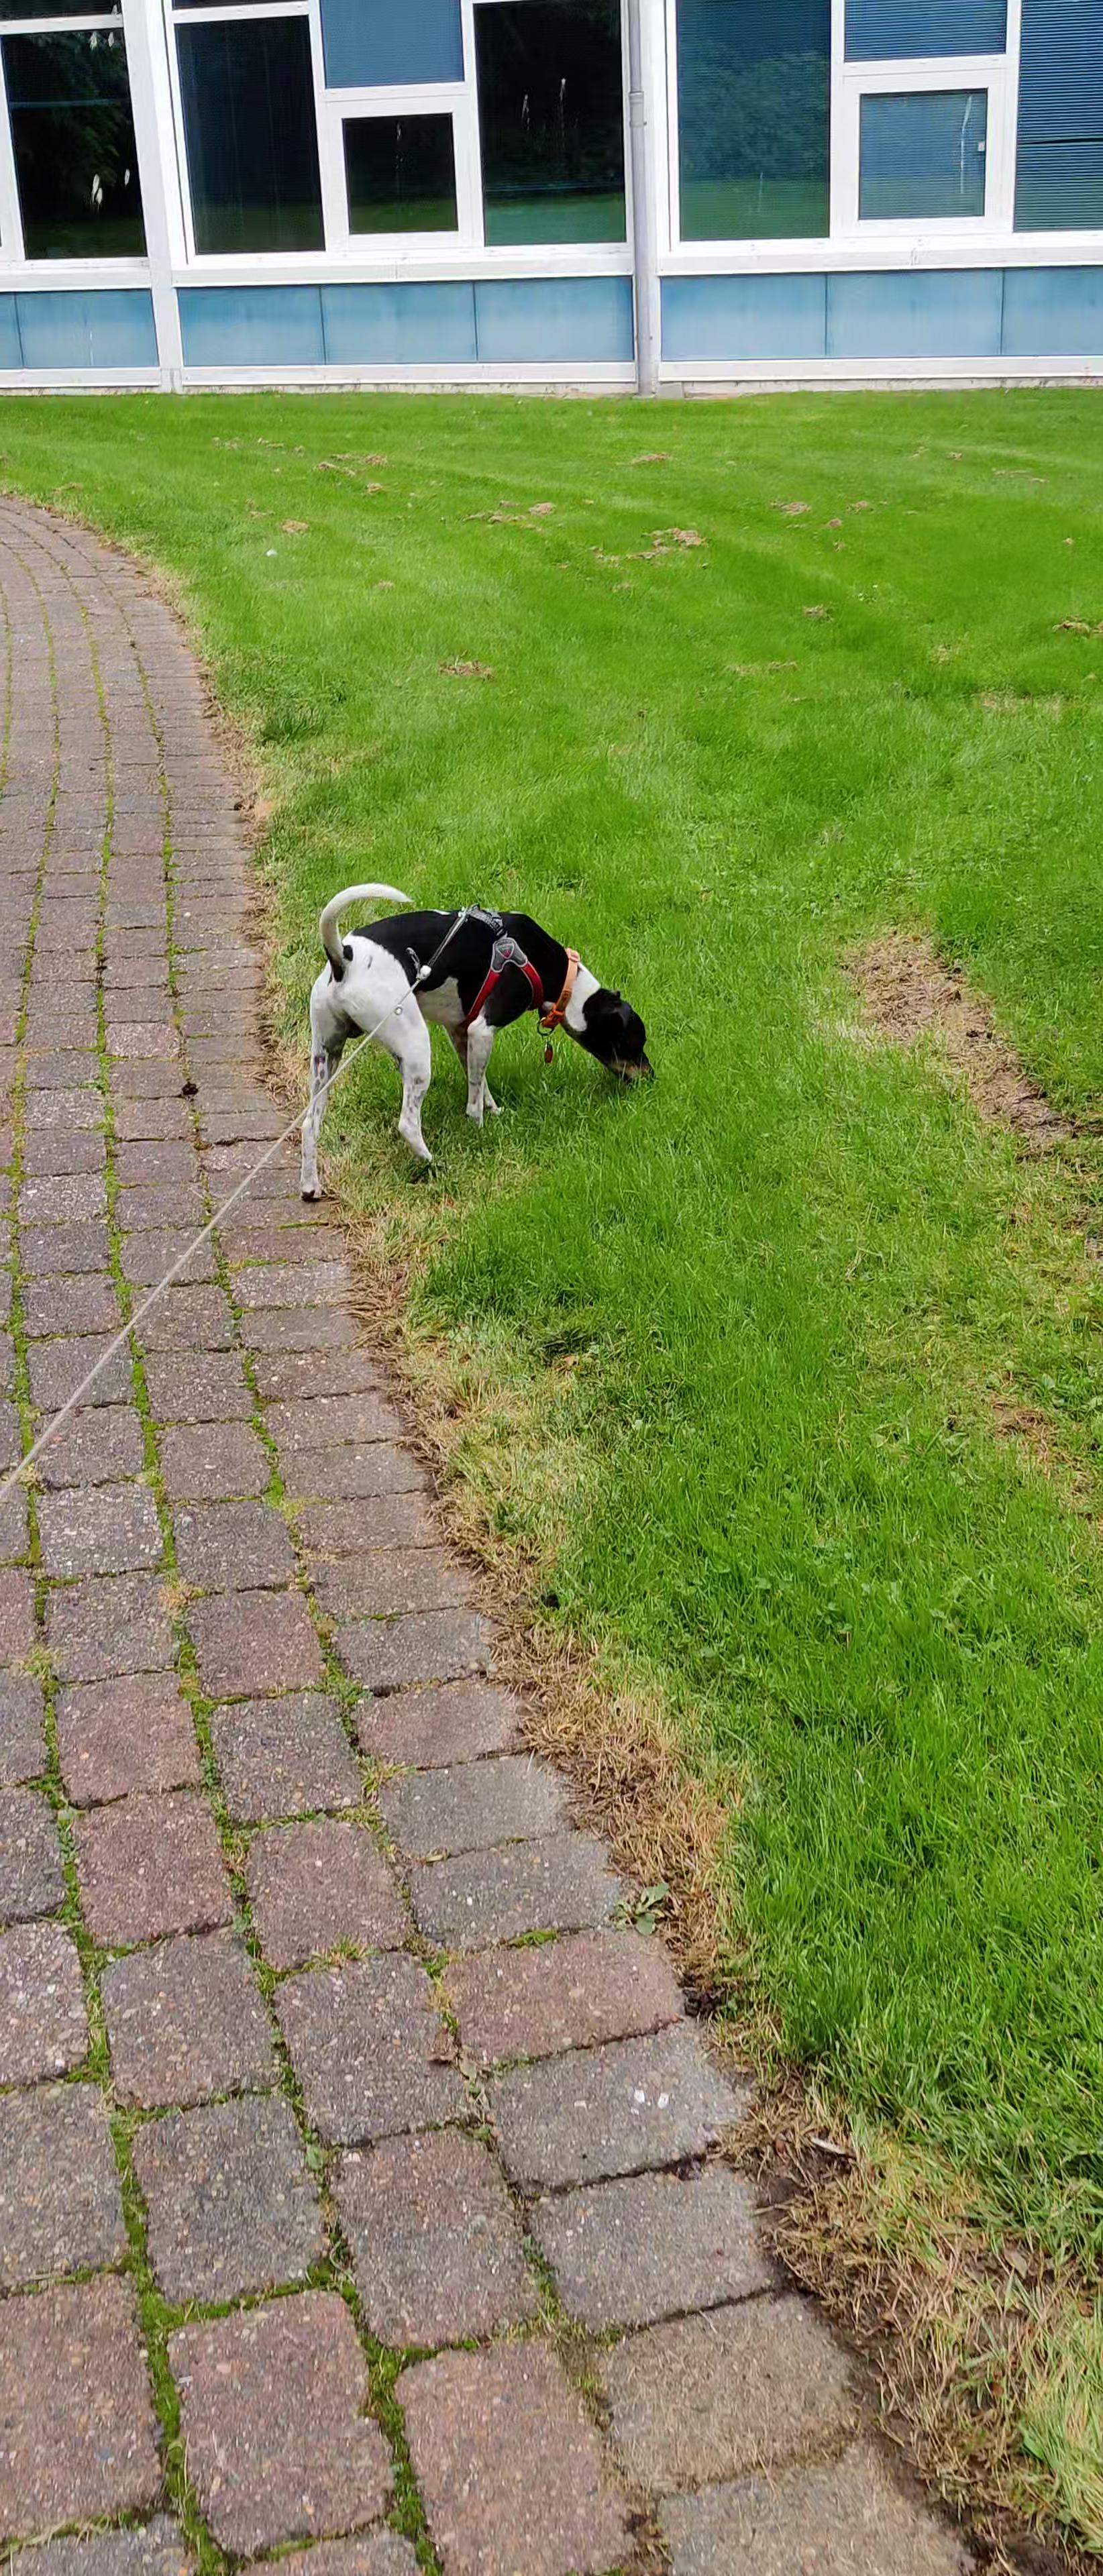Dog: (275, 874, 671, 1209)
